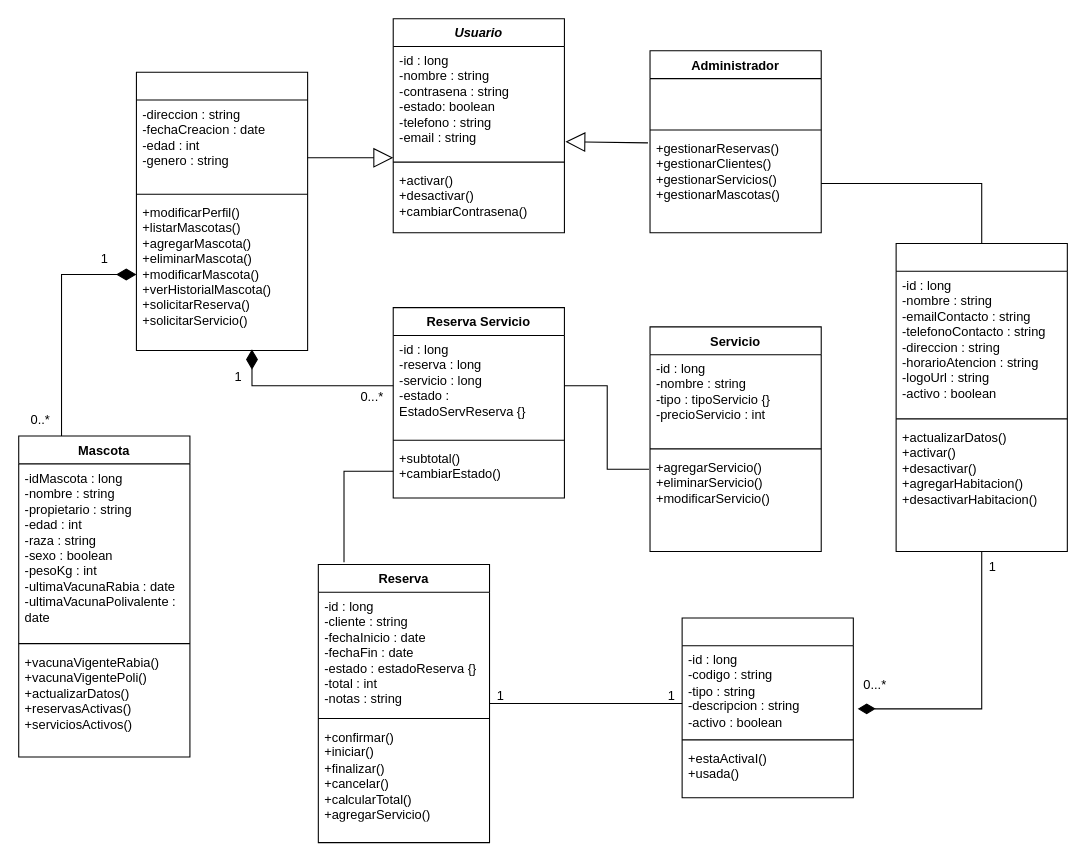
Image size: 1086x865. Some labels were removed from this diagram. Here are the shapes that lost their labels. From the top down, the box of each, then its label:
(135, 71, 308, 350): Cliente
(895, 242, 1067, 552): Hotel
(681, 617, 853, 798): Habitación
